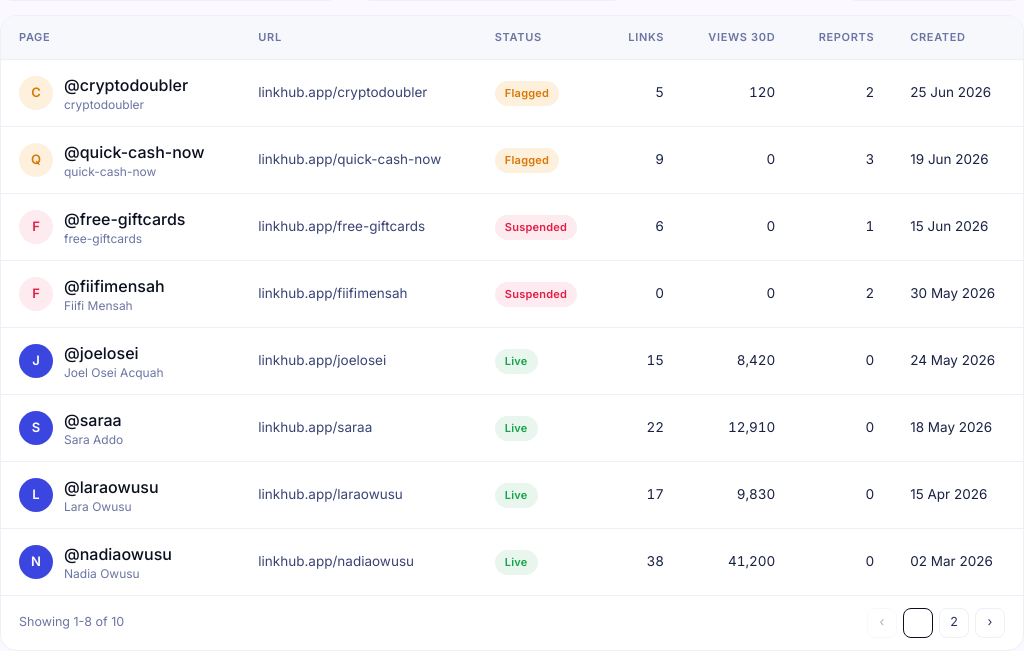
it: PagesClient › pages through results
(page scrolled)
Expected: the text "@cryptodoubler" is shown, [64,72,188,96]
Click the button named "Next page" at (990,622), box [975,608,1005,638]
(page scrolled)
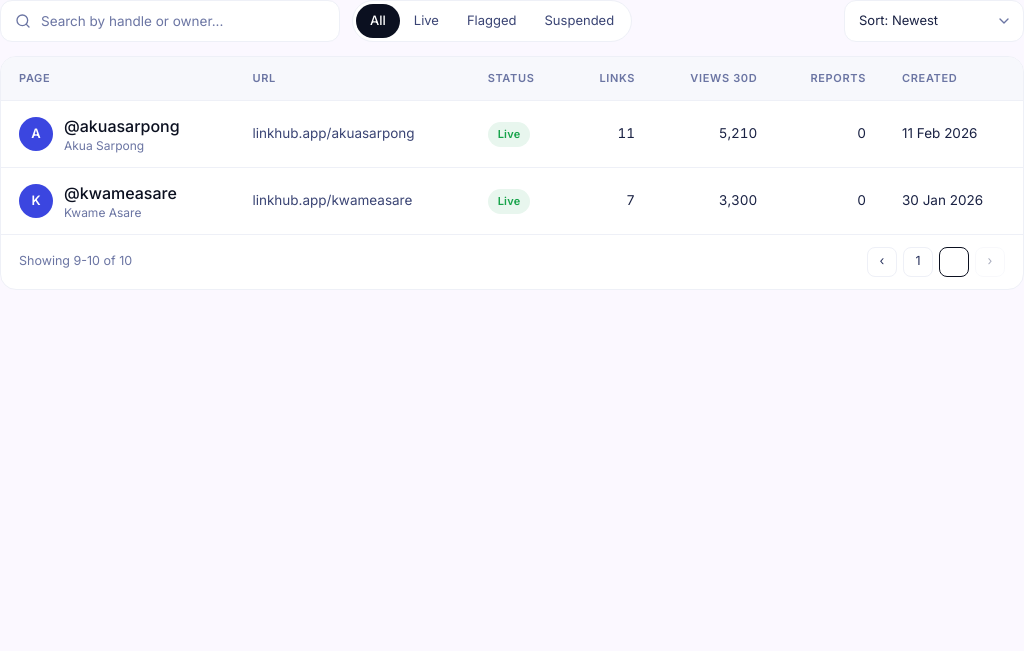
Now the text "@akuasarpong" is shown, box [64,114,180,138]
Now the text "@cryptodoubler" is gone
Now the text "Showing 9-10 of 10" is shown, box [19,252,132,271]
